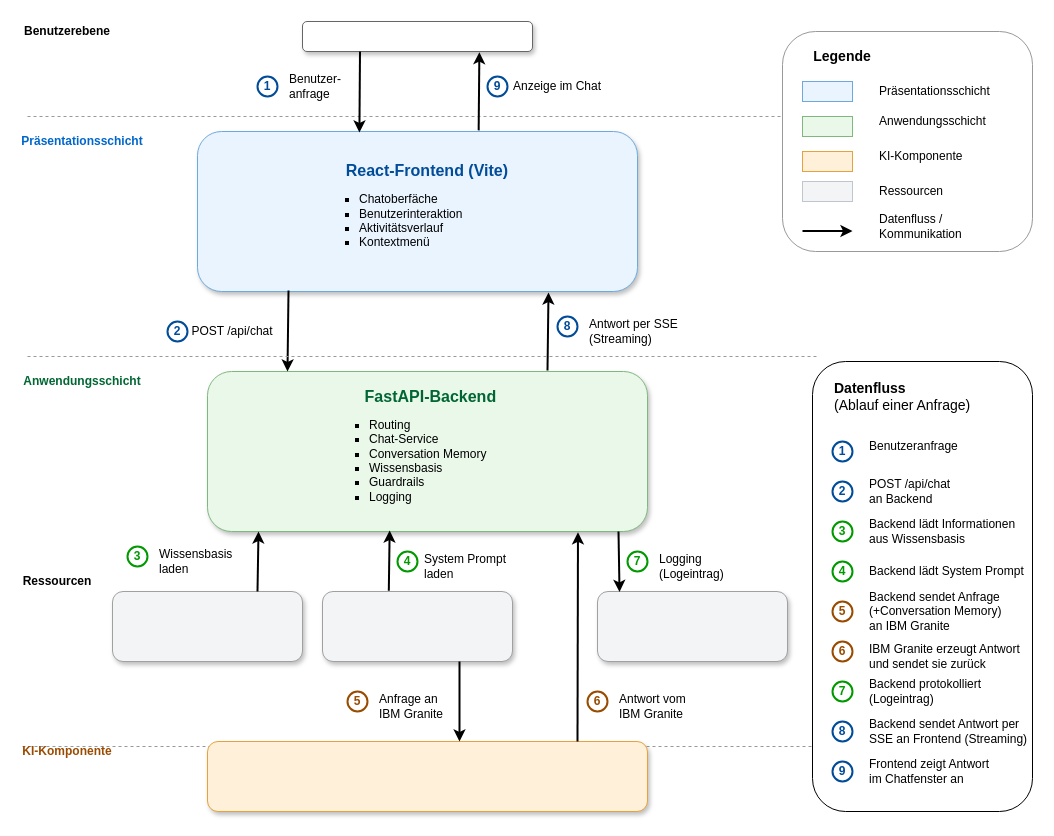
This 1054x836 diagram has some shape labels left out. The centre of each missing label's shape, as x and y in pixels:
"Benutzer" goes at [418,37].
"IBM Granite 4.1.(38) Lokales Large Language Model (LLM) Ausführung über Ollama" goes at [428,777].
"Protokolldatei chat.log" goes at [693,627].
"System Prompt system_prompt.txt" goes at [418,627].
"Wissensbasis knowledge.json" goes at [208,627].
